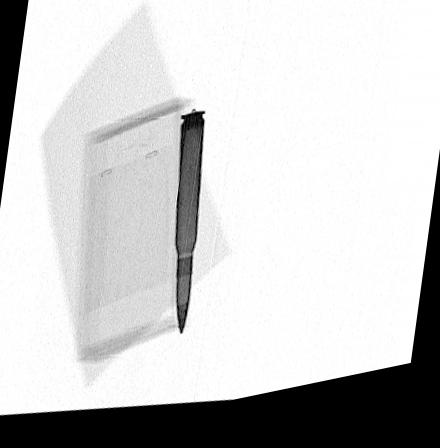Bullet: (175, 117, 206, 344)
